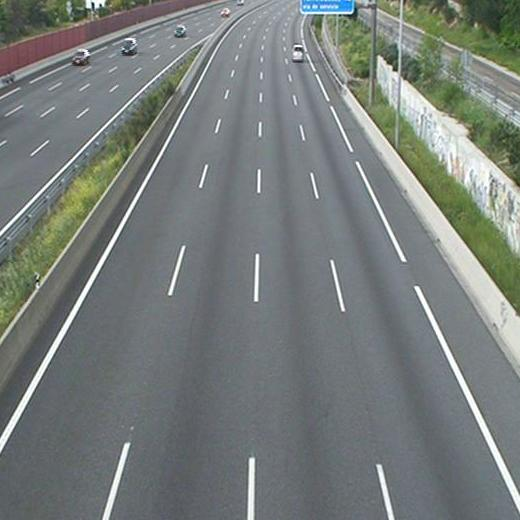car: (292, 44, 305, 62)
